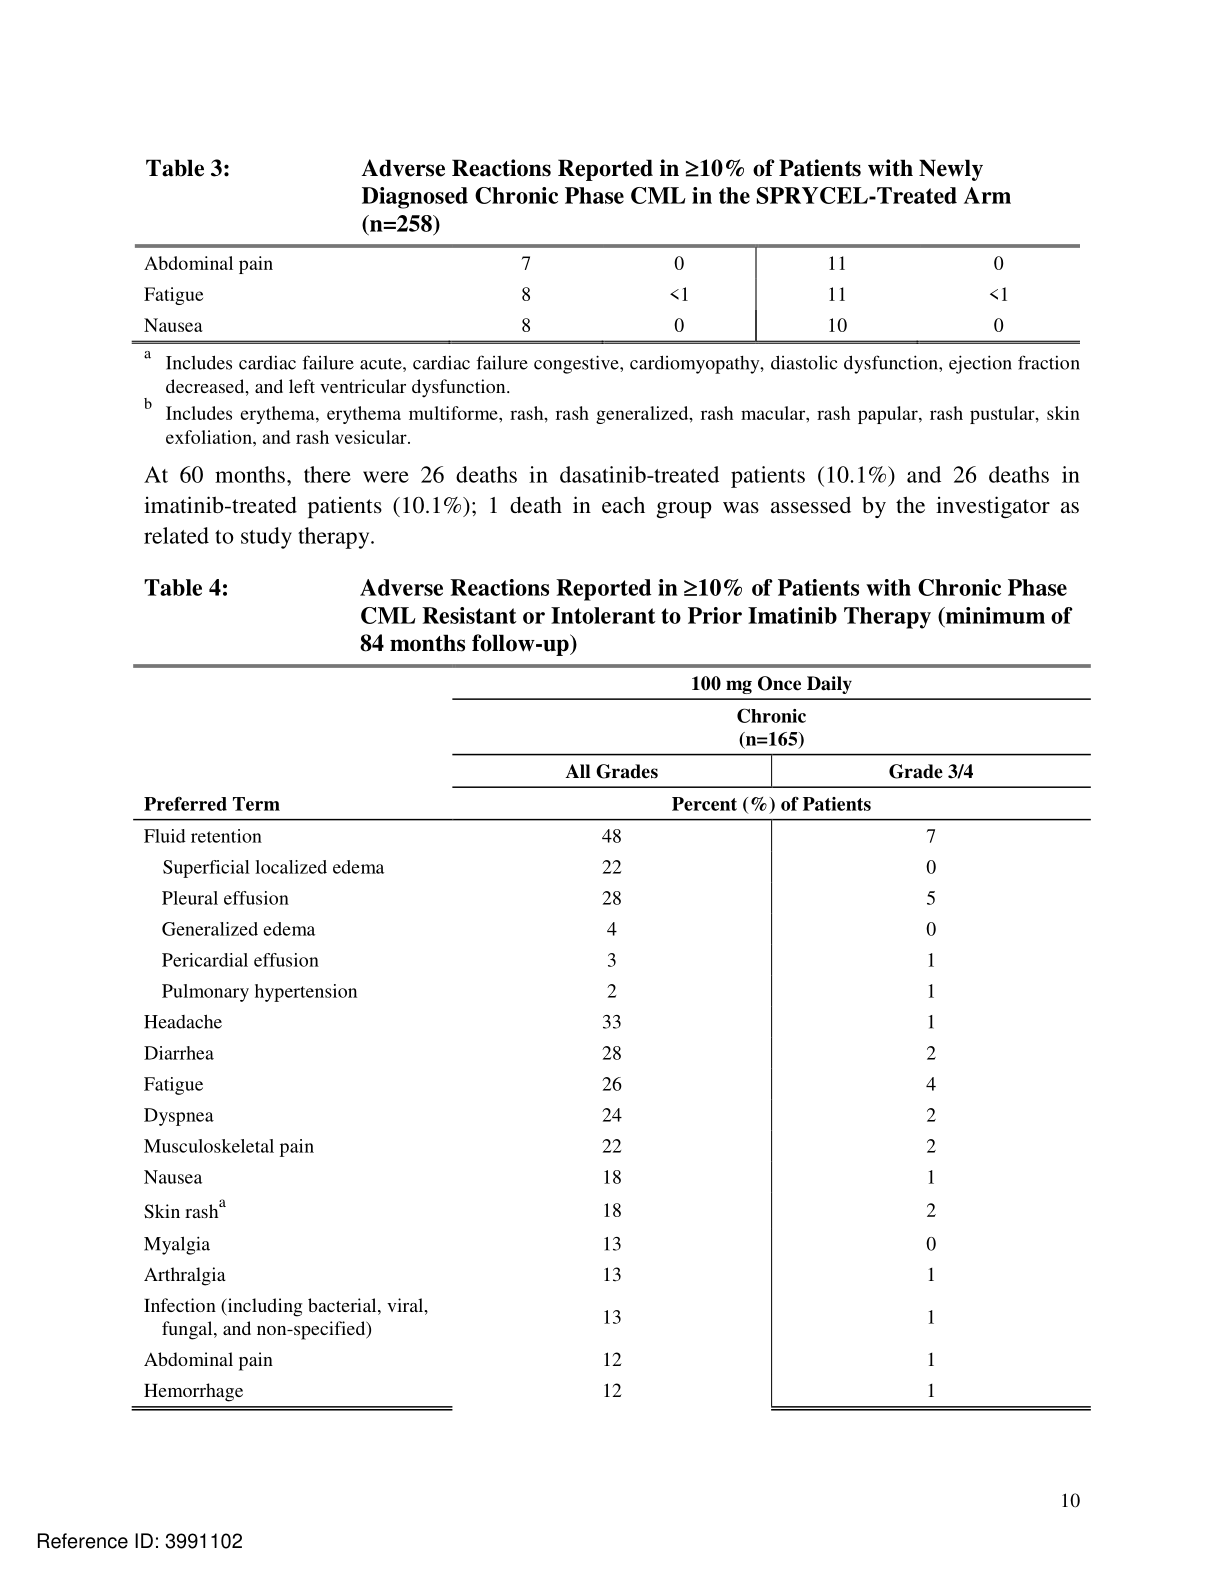partial_lined: (134, 242, 1083, 346)
partial_lined_merged_cells: (131, 663, 1094, 1412)
